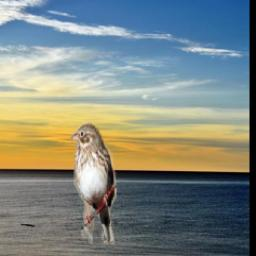Sparrow: (69, 121, 117, 245)
